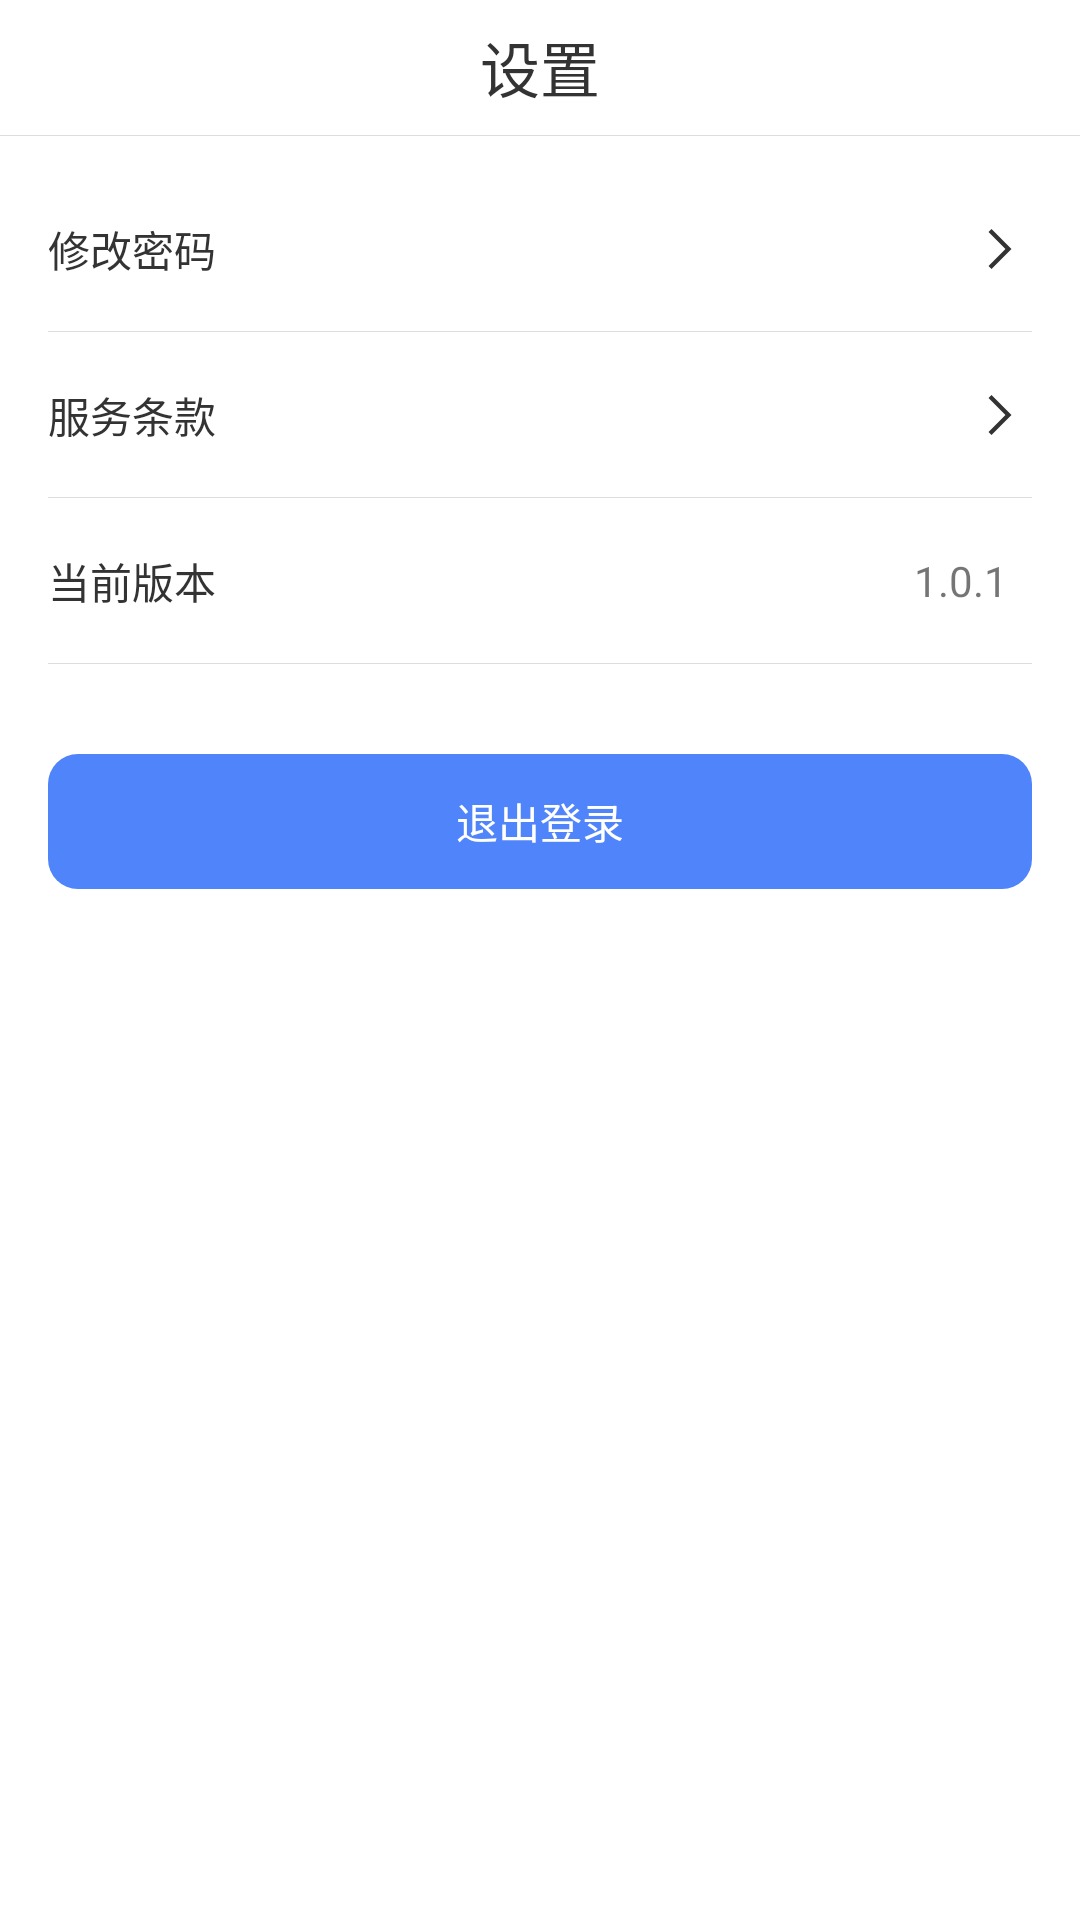

Where icons sit on this 1080w x 1920h app screen, as bbox=(x1, y1, x2, y2):
next right: bbox=(989, 229, 1011, 269), bbox=(989, 395, 1011, 435)
